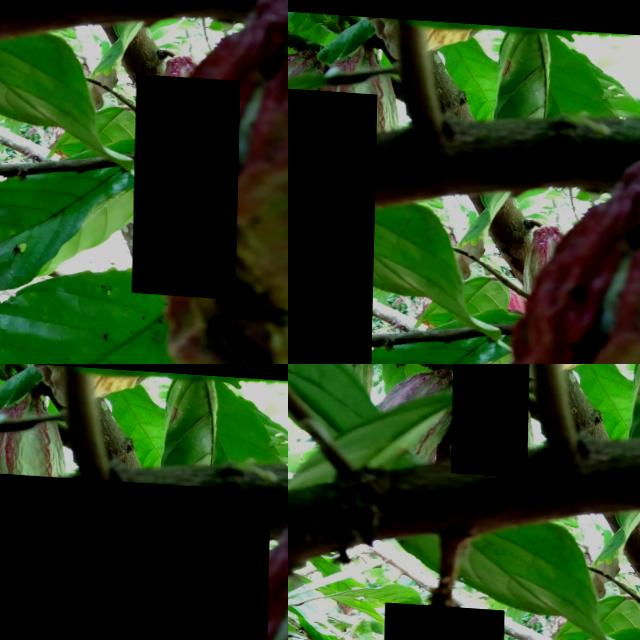Fitoftora: (134, 68, 240, 291)
Monilia: (0, 456, 271, 640), (288, 80, 377, 364)
Sana: (451, 364, 529, 472)
